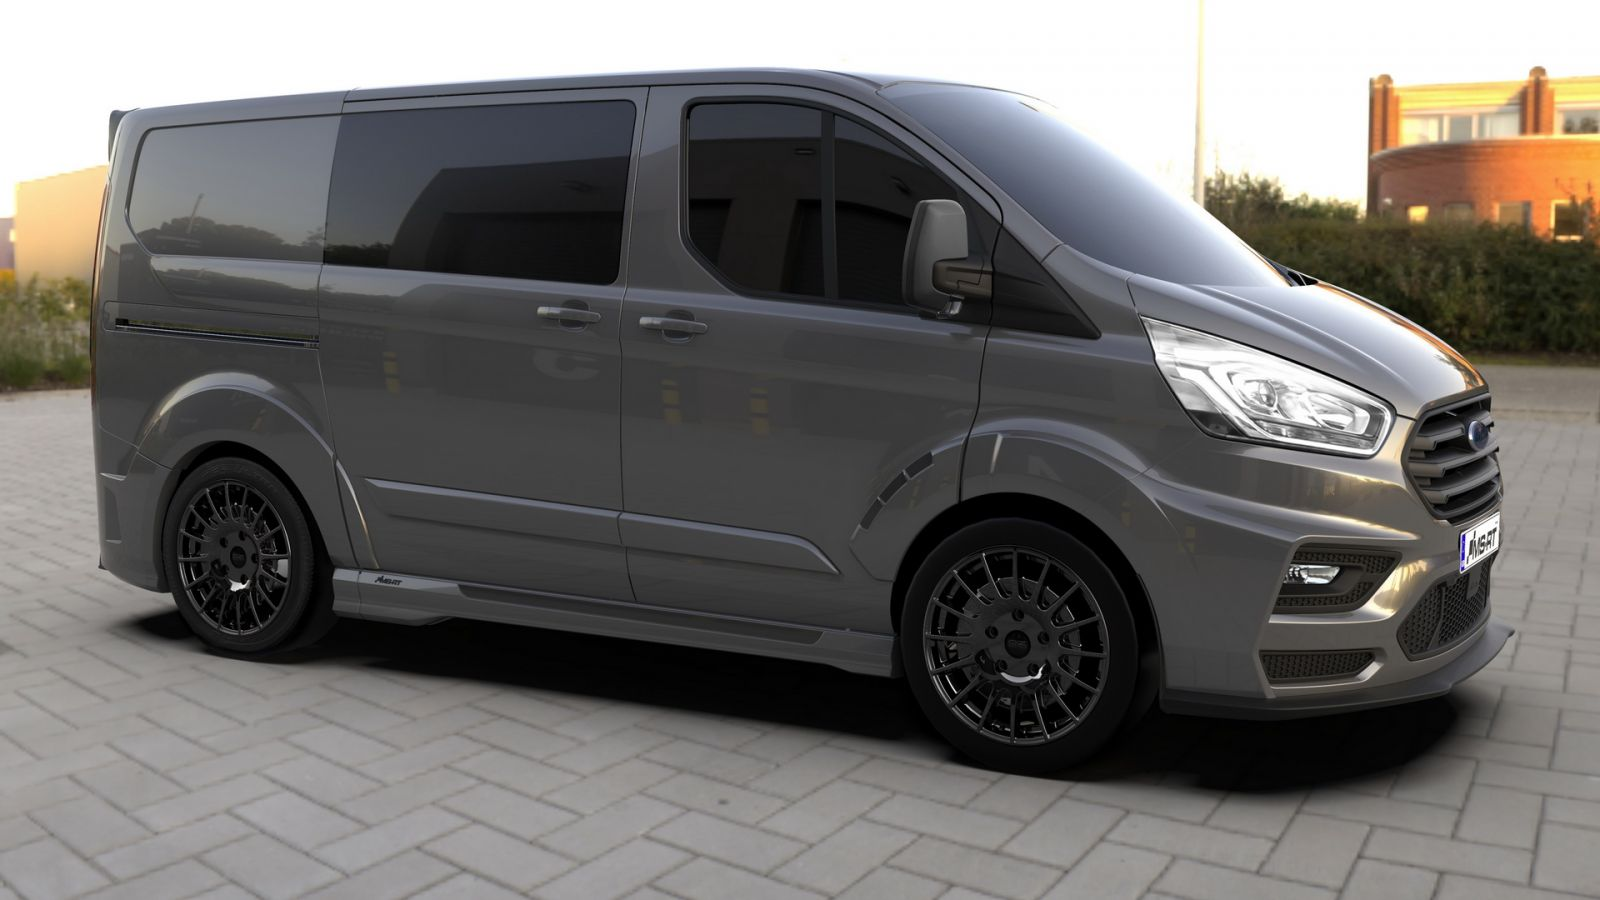van: (81, 69, 1519, 776)
